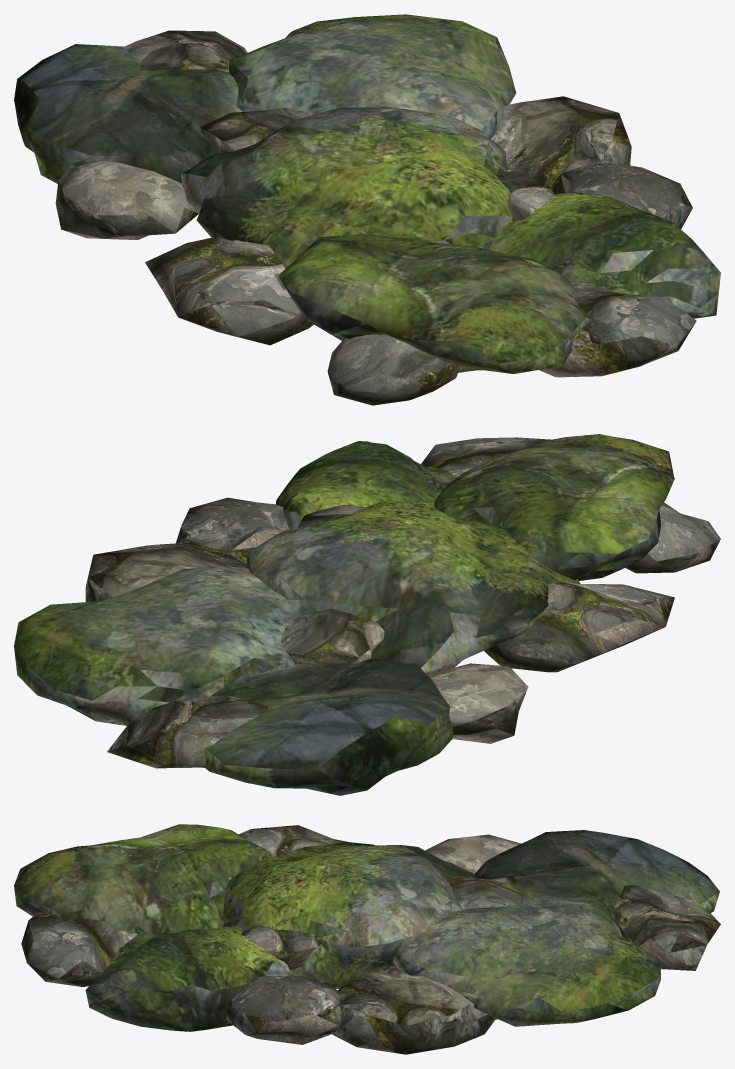
File: rock_river_cobble_bar.glb
The picture shows the model from 3 angles, top to bottom: view 1: azimuth 30°, elevation 25°; view 2: azimuth 150°, elevation 25°; view 3: azimuth 270°, elevation 25°; orthographic projection. The views are drawn at different scales.
Parts seen in each view (by area): view 1: river_cobble_anchors, river_cobble_stones; view 2: river_cobble_anchors, river_cobble_stones; view 3: river_cobble_anchors, river_cobble_stones.
Boxes of the visible parts, x1=… form: river_cobble_anchors: x1=14, y1=14, x2=720, y2=373; river_cobble_stones: x1=55, y1=30, x2=696, y2=405; river_cobble_anchors: x1=14, y1=434, x2=674, y2=795; river_cobble_stones: x1=85, y1=437, x2=720, y2=768; river_cobble_anchors: x1=14, y1=824, x2=719, y2=1031; river_cobble_stones: x1=21, y1=825, x2=720, y2=1054.
Size of the model in its own units: 2.3 by 0.5579 by 3.41.
Materials: 2 (2 with a texture image).
